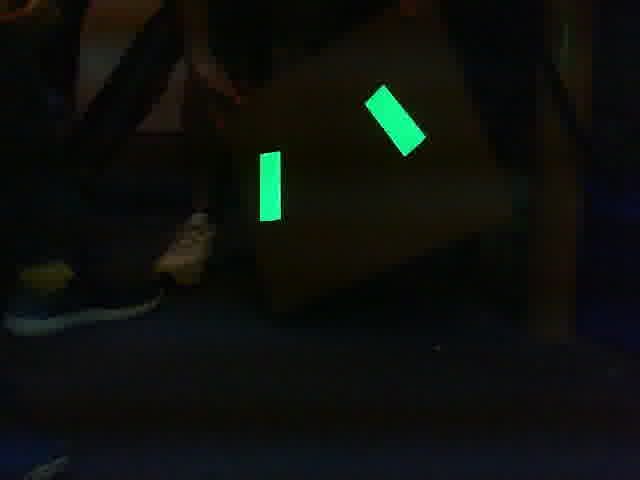target: (257, 80, 427, 223)
